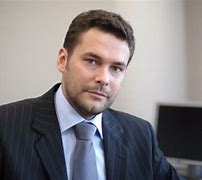person: (55, 9, 136, 115)
